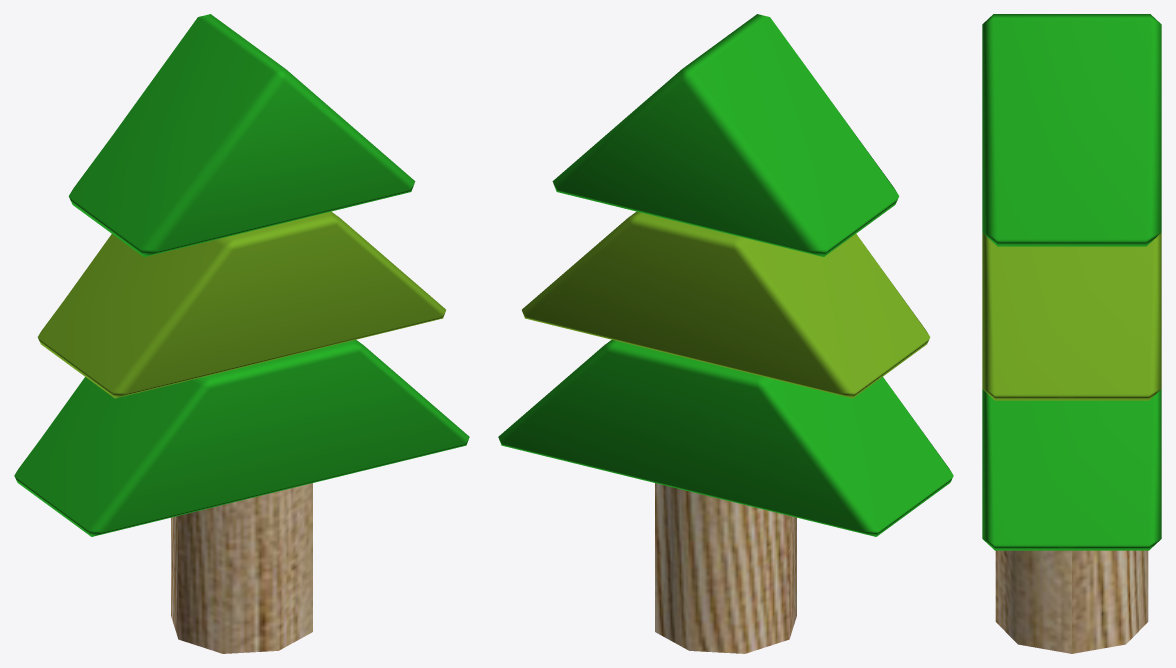
The model's file is jimu.fbx.
The picture shows the model from 3 angles, left to right: view 1: azimuth 30°, elevation 25°; view 2: azimuth 150°, elevation 25°; view 3: azimuth 270°, elevation 25°; orthographic projection. The views are drawn at different scales.
Parts seen in each view (by area): view 1: jimu; view 2: jimu; view 3: jimu.
Part boxes in pixels (box(x1,y1,x2,y2)): jimu: box(14, 14, 469, 653); jimu: box(498, 14, 953, 653); jimu: box(982, 14, 1161, 653).
Size of the model in its own units: 13.19 by 19.19 by 5.16.
Materials: 3 (1 with a texture image).
